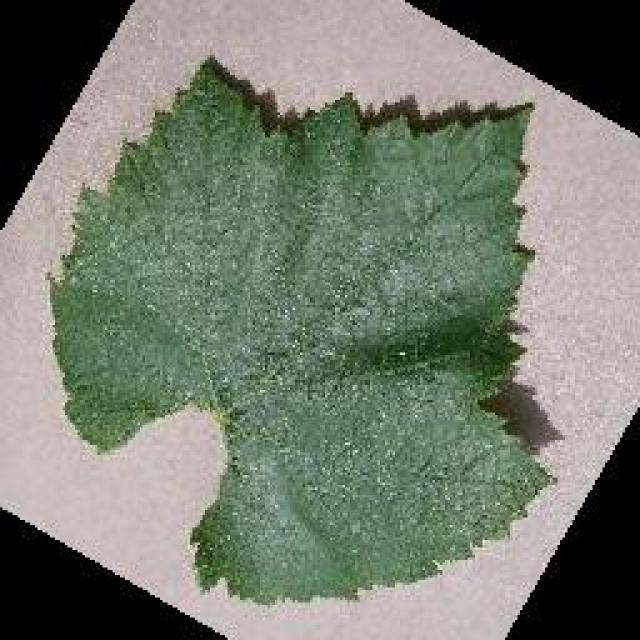Grape___healthy: (50, 60, 548, 600)
